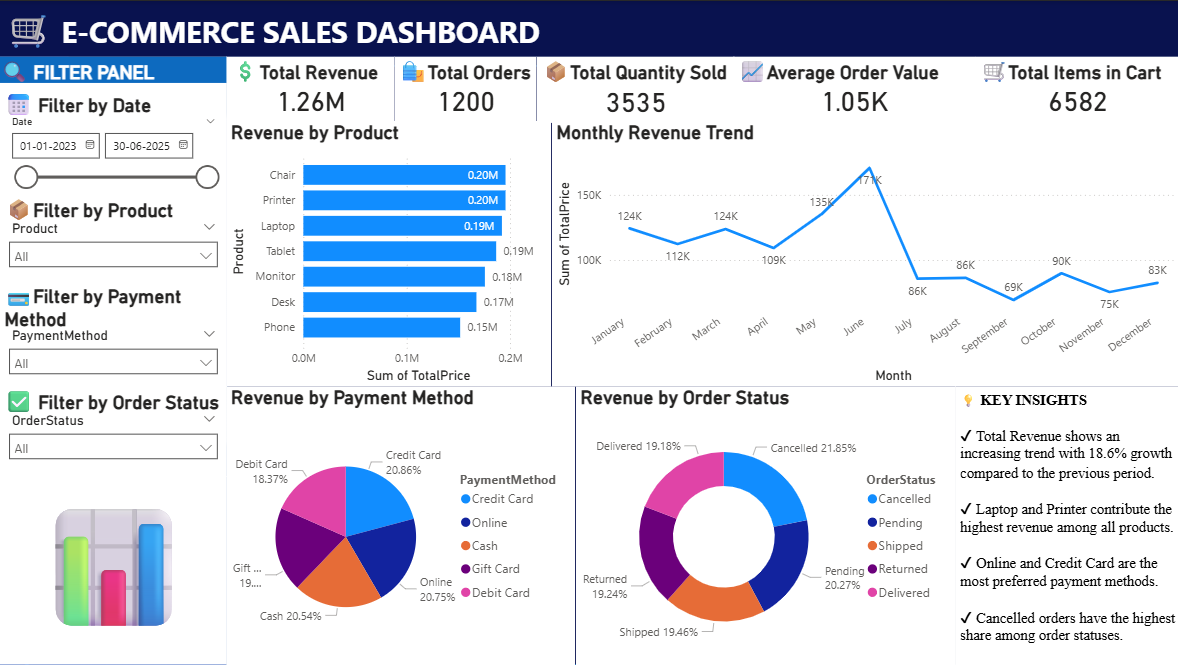

Layout of this report page (visuals, bound fields, positions):
{"tool":"powerbi","page":{"name":"Page 1","canvas":[1280,720],"ordinal":0},"visuals":[{"type":"shape","box":[246,70,1034,650],"z":0},{"type":"shape","title":"🔍 FILTER PANEL","box":[0,60,246,456],"z":1000},{"type":"card","title":"💲Total Revenue","fields":{"Values":["Sum(Sheet1.TotalPrice)"]},"box":[246,60,182,70],"z":2000},{"type":"card","title":"🛍️Total Orders","fields":{"Values":["CountNonNull(Sheet1.OrderID)"]},"box":[428,60,154,70],"z":3000},{"type":"card","title":"📦Total Quantity Sold","fields":{"Values":["Sum(Sheet1.Quantity)"]},"box":[582,60,214,72],"z":4000},{"type":"card","title":"📈Average Order Value","fields":{"Values":["Avg(Sheet1.TotalPrice)"]},"box":[796,60,262,70],"z":5000},{"type":"card","title":"🛒Total Items in Cart","fields":{"Values":["Sum(Sheet1.ItemsInCart)"]},"box":[1058,60,222,70],"z":6000},{"type":"clusteredBarChart","title":"Revenue by Product","fields":{"Category":["Sheet1.Product"],"Y":["Sum(Sheet1.TotalPrice)"]},"box":[246,130,352,288],"z":7000},{"type":"lineChart","title":"Monthly Revenue Trend","fields":{"Y":["Sum(Sheet1.TotalPrice)"],"Category":["Sheet1.Date.Variation.Date Hierarchy.Month"]},"box":[598,130,682,288],"z":8000},{"type":"pieChart","title":"Revenue by Payment Method","fields":{"Category":["Sheet1.PaymentMethod"],"Y":["Sum(Sheet1.TotalPrice)"]},"box":[246,418,378,302],"z":9000},{"type":"donutChart","title":"Revenue by Order Status","fields":{"Category":["Sheet1.OrderStatus"],"Y":["Sum(Sheet1.TotalPrice)"]},"box":[624,418,412,302],"z":10000},{"type":"slicer","title":"📅 Filter by Date","fields":{"Values":["Sheet1.Date"]},"box":[0,96,246,114],"z":11000},{"type":"slicer","title":"✅ Filter by Order Status","fields":{"Values":["Sheet1.OrderStatus"]},"box":[0,418,246,98],"z":12000},{"type":"slicer","title":"📦Filter by Product","fields":{"Values":["Sheet1.Product"]},"box":[0,210,246,92],"z":13000},{"type":"slicer","title":"💳Filter by Payment Method","fields":{"Values":["Sheet1.PaymentMethod"]},"box":[0,302,246,116],"z":14000},{"type":"textbox","box":[0,0,1280,60],"z":15000},{"type":"textbox","box":[1036,418,244,302],"z":16000},{"type":"textbox","box":[0,516,246,204],"z":16001}]}

Visuals, with their boxes in screenshot pixels (x1, y1, x2, y2), scaled from the page's 1280x720 canvas onto the 1178x665 screenshot:
shape: {"left": 226, "top": 65, "right": 1177, "bottom": 664}
"🔍 FILTER PANEL" shape: {"left": 0, "top": 55, "right": 226, "bottom": 477}
"💲Total Revenue" card: {"left": 226, "top": 55, "right": 394, "bottom": 120}
"🛍️Total Orders" card: {"left": 394, "top": 55, "right": 536, "bottom": 120}
"📦Total Quantity Sold" card: {"left": 536, "top": 55, "right": 733, "bottom": 122}
"📈Average Order Value" card: {"left": 733, "top": 55, "right": 974, "bottom": 120}
"🛒Total Items in Cart" card: {"left": 974, "top": 55, "right": 1177, "bottom": 120}
"Revenue by Product" clusteredBarChart: {"left": 226, "top": 120, "right": 550, "bottom": 386}
"Monthly Revenue Trend" lineChart: {"left": 550, "top": 120, "right": 1177, "bottom": 386}
"Revenue by Payment Method" pieChart: {"left": 226, "top": 386, "right": 574, "bottom": 664}
"Revenue by Order Status" donutChart: {"left": 574, "top": 386, "right": 953, "bottom": 664}
"📅 Filter by Date" slicer: {"left": 0, "top": 89, "right": 226, "bottom": 194}
"✅ Filter by Order Status" slicer: {"left": 0, "top": 386, "right": 226, "bottom": 477}
"📦Filter by Product" slicer: {"left": 0, "top": 194, "right": 226, "bottom": 279}
"💳Filter by Payment Method" slicer: {"left": 0, "top": 279, "right": 226, "bottom": 386}
textbox: {"left": 0, "top": 0, "right": 1177, "bottom": 55}
textbox: {"left": 953, "top": 386, "right": 1177, "bottom": 664}
textbox: {"left": 0, "top": 477, "right": 226, "bottom": 664}
